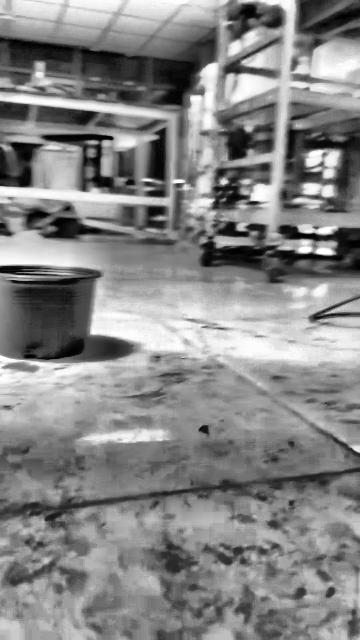pot: (1, 264, 101, 359)
